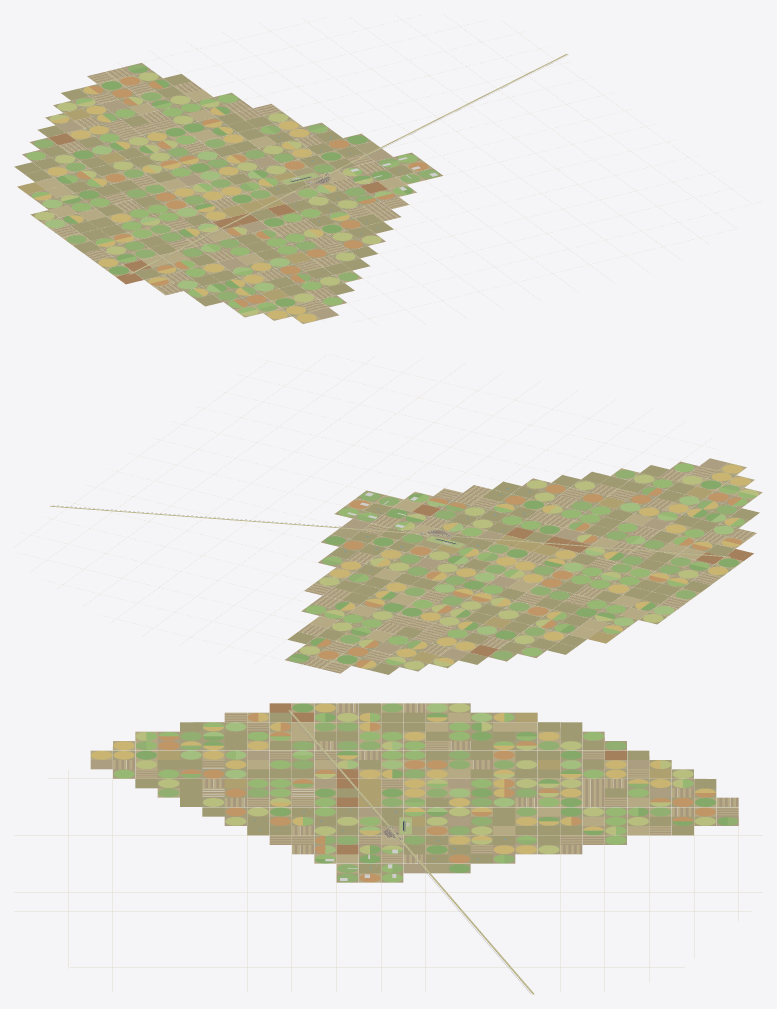
File: land.glb
3 views of the same model, one above another, from view 1: azimuth 30°, elevation 25°; view 2: azimuth 150°, elevation 25°; view 3: azimuth 270°, elevation 25° (orthographic). The views are drawn at different scales.
Visible parts, largest first — view 1: decal-sections, decal-pivots, decal-pivot-halves, decal-roads, decal-rail-bed; view 2: decal-sections, decal-pivots, decal-pivot-halves, decal-roads, decal-rail-bed; view 3: decal-sections, decal-pivots, decal-roads, decal-pivot-halves, decal-rail-bed.
Part boxes in pixels (left/top/right/bottom): decal-sections: left=14, top=63, right=442, bottom=323; decal-pivots: left=26, top=64, right=438, bottom=322; decal-pivot-halves: left=32, top=67, right=412, bottom=315; decal-roads: left=24, top=14, right=760, bottom=324; decal-rail-bed: left=130, top=54, right=567, bottom=274; decal-sections: left=285, top=458, right=762, bottom=674; decal-pivots: left=289, top=463, right=756, bottom=669; decal-pivot-halves: left=290, top=487, right=758, bottom=667; decal-roads: left=14, top=355, right=753, bottom=670; decal-rail-bed: left=50, top=506, right=730, bottom=557; decal-sections: left=90, top=703, right=738, bottom=882; decal-pivots: left=91, top=703, right=738, bottom=882; decal-roads: left=14, top=704, right=762, bottom=991; decal-pivot-halves: left=136, top=713, right=727, bottom=872; decal-rail-bed: left=288, top=710, right=534, bottom=994.
Bounding box in the file's own units: 81478 × 230 × 88440.
